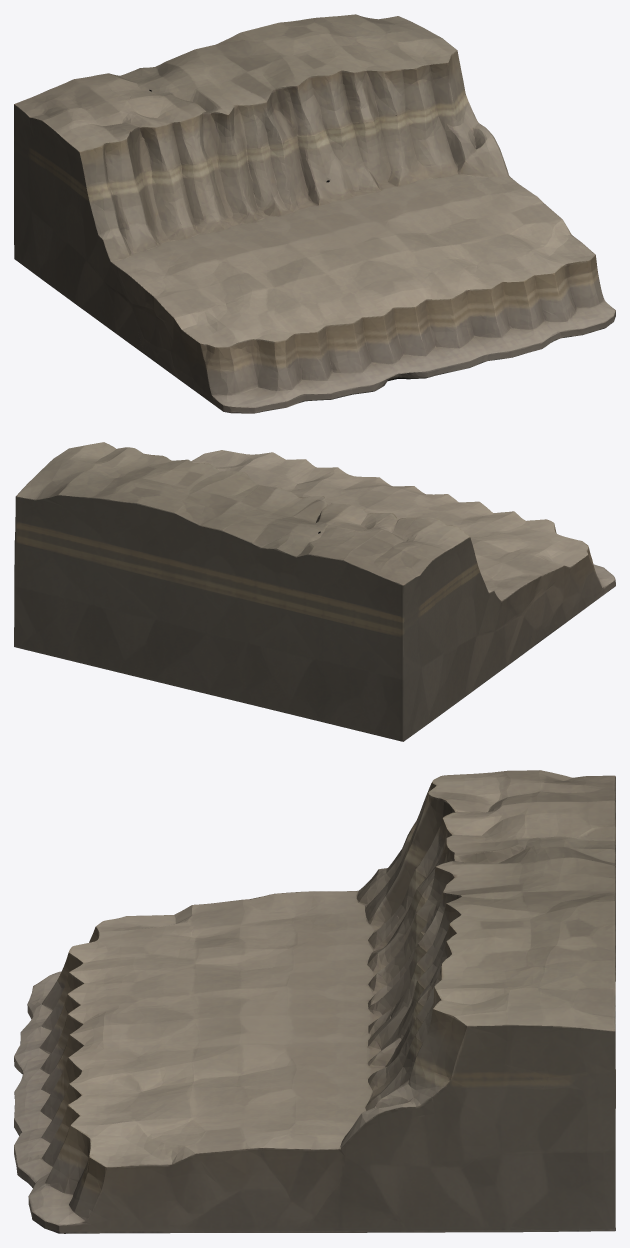
3 renders of one model, top to bottom at view 1: azimuth 30°, elevation 25°; view 2: azimuth 150°, elevation 25°; view 3: azimuth 270°, elevation 25°, orthographic. The views are drawn at different scales.
Parts seen in each view (by area): view 1: world; view 2: world; view 3: world.
Part boxes in pixels (x1,y1,x2,y2): world: (14,14,615,413); world: (14,442,615,741); world: (14,770,615,1233).
Size of the model in its own units: 0.999 by 0.4185 by 1.
1 material, 1 textured.
